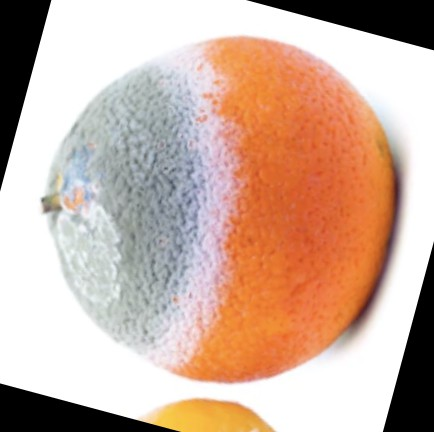rotten_orange: (42, 35, 395, 383)
